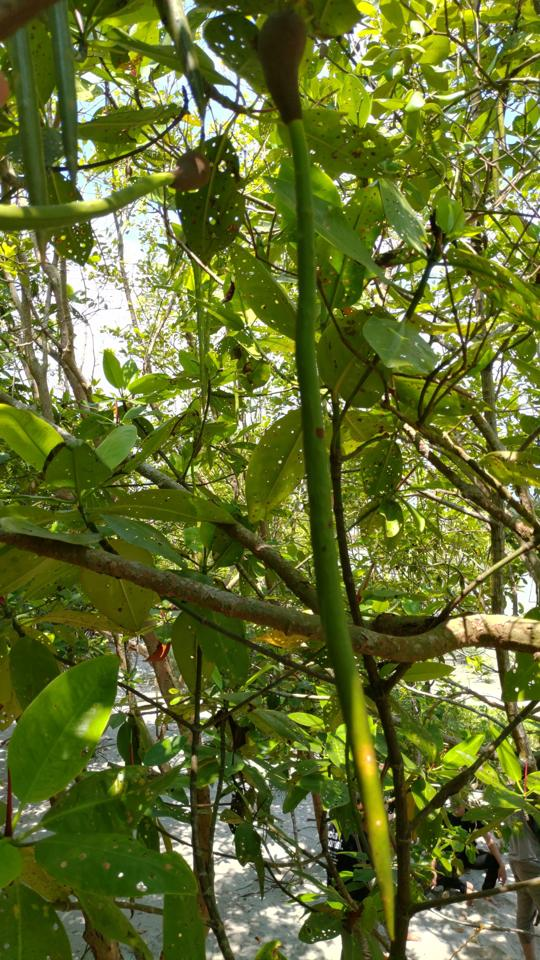mentah: (237, 3, 419, 951)
